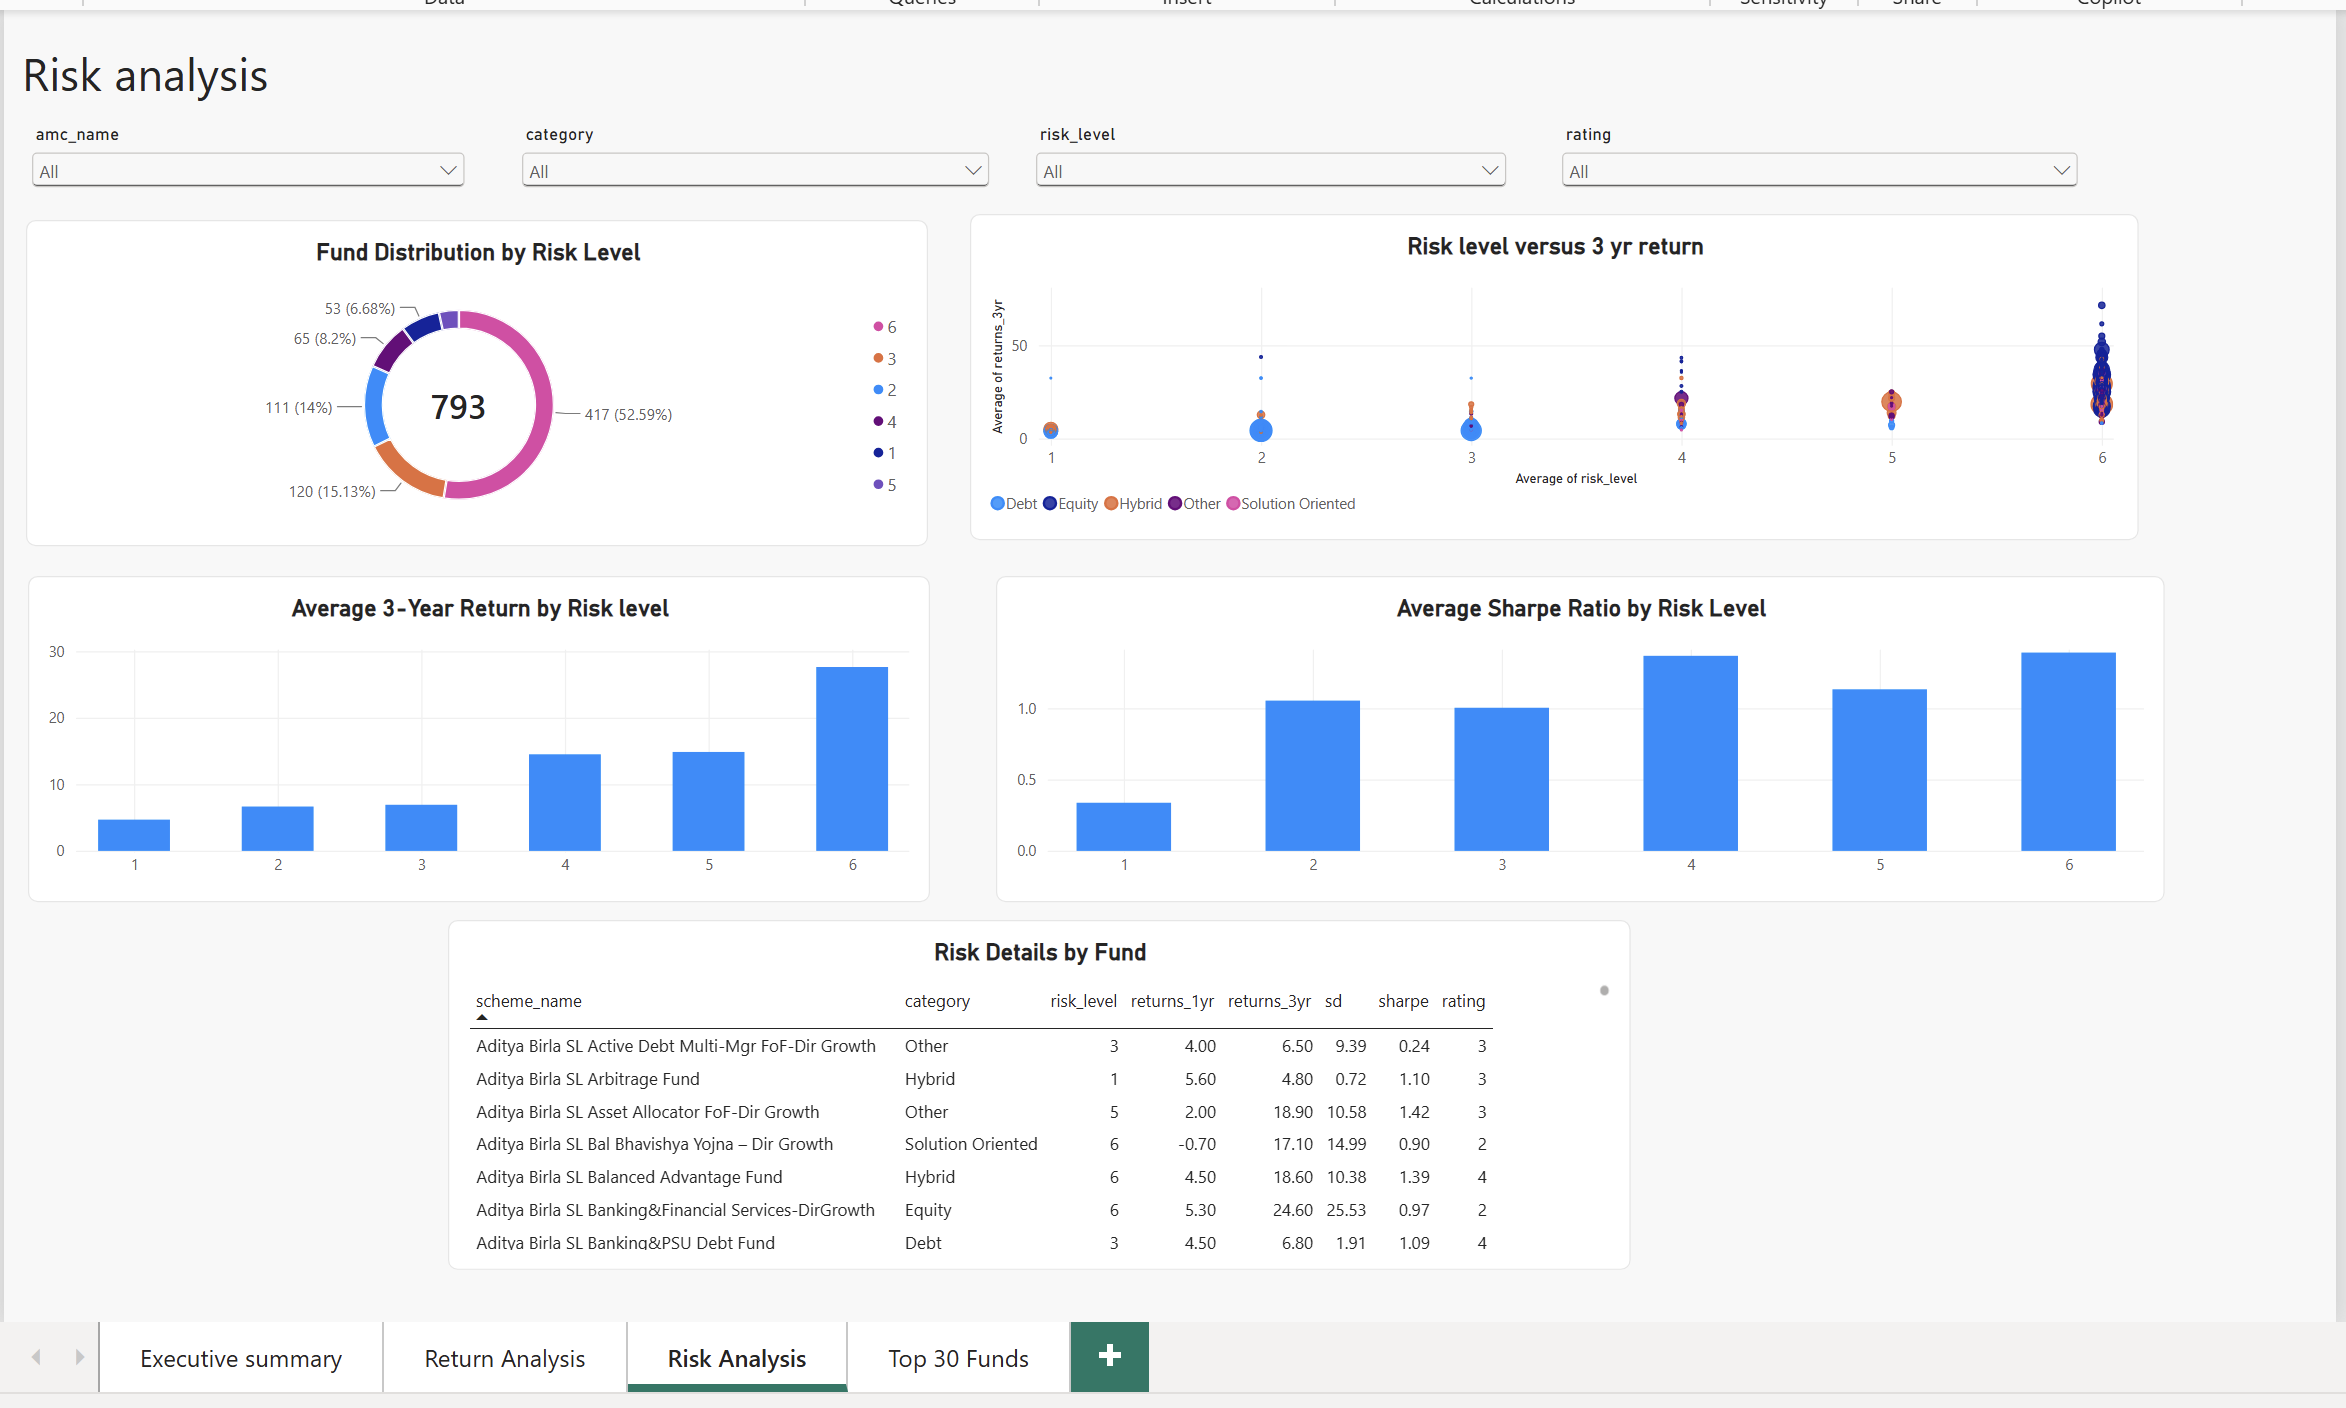

What the dashboard file says about the page in this screenshot:
{"tool":"powerbi","page":{"name":"Risk Analysis","canvas":[1920,1080],"ordinal":2},"visuals":[{"type":"donutChart","title":"Fund Distribution by Risk Level","fields":{"Category":["ranked_mutualfunds.risk_level"],"Y":["CountNonNull(ranked_mutualfunds.scheme_name)"]},"box":[17.7,172.9,742.7,268.3],"z":0},{"type":"scatterChart","title":"Risk level versus 3 yr return","fields":{"Category":["ranked_mutualfunds.position"],"Series":["ranked_mutualfunds.category"],"Size":["Sum(ranked_mutualfunds.fund_size_cr)"],"X":["Avg(ranked_mutualfunds.risk_level)"],"Y":["Avg(ranked_mutualfunds.returns_3yr)"]},"box":[795.9,168.5,962.2,268.3],"z":1000},{"type":"clusteredColumnChart","title":"Average 3-Year Return by Risk level","fields":{"Category":["ranked_mutualfunds.risk_level"],"Y":["Avg(ranked_mutualfunds.returns_3yr)"]},"box":[20,465.6,742.7,268.3],"z":2000},{"type":"clusteredColumnChart","title":"Average Sharpe Ratio by Risk Level","fields":{"Category":["ranked_mutualfunds.risk_level"],"Y":["Avg(ranked_mutualfunds.sharpe)"]},"box":[815.9,465.6,962.2,268.3],"z":3000},{"type":"tableEx","title":"Risk Details by Fund","fields":{"Values":["ranked_mutualfunds.scheme_name","ranked_mutualfunds.category","ranked_mutualfunds.risk_level","ranked_mutualfunds.returns_1yr","ranked_mutualfunds.returns_3yr","ranked_mutualfunds.sd","ranked_mutualfunds.sharpe","ranked_mutualfunds.rating"]},"box":[365.8,749.4,973.3,288.2],"z":4000},{"type":"slicer","fields":{"Values":["ranked_mutualfunds.amc_name"]},"box":[17.7,93.1,365.8,75.4],"z":5000},{"type":"slicer","fields":{"Values":["ranked_mutualfunds.category"]},"box":[421.2,93.1,394.6,77.6],"z":6000},{"type":"slicer","fields":{"Values":["ranked_mutualfunds.risk_level"]},"box":[844.7,93.1,396.9,79.8],"z":7000},{"type":"slicer","fields":{"Values":["ranked_mutualfunds.rating"]},"box":[1277,93.1,434.5,75.4],"z":8000},{"type":"textbox","box":[15.5,26.6,592,55.4],"z":9000}]}

Visuals, with their boxes on the page's 1920x1080 design canvas (x1, y1, x2, y2). These are canvas units, not pixel positions in the 2346x1408 screenshot, which may show the page scaled, cropped or inside an application window:
"Fund Distribution by Risk Level" donutChart: 18 173 760 441
"Risk level versus 3 yr return" scatterChart: 796 168 1758 437
"Average 3-Year Return by Risk level" clusteredColumnChart: 20 466 763 734
"Average Sharpe Ratio by Risk Level" clusteredColumnChart: 816 466 1778 734
"Risk Details by Fund" tableEx: 366 749 1339 1038
slicer - ranked_mutualfunds.amc_name: 18 93 384 168
slicer - ranked_mutualfunds.category: 421 93 816 171
slicer - ranked_mutualfunds.risk_level: 845 93 1242 173
slicer - ranked_mutualfunds.rating: 1277 93 1712 168
textbox: 16 27 608 82
